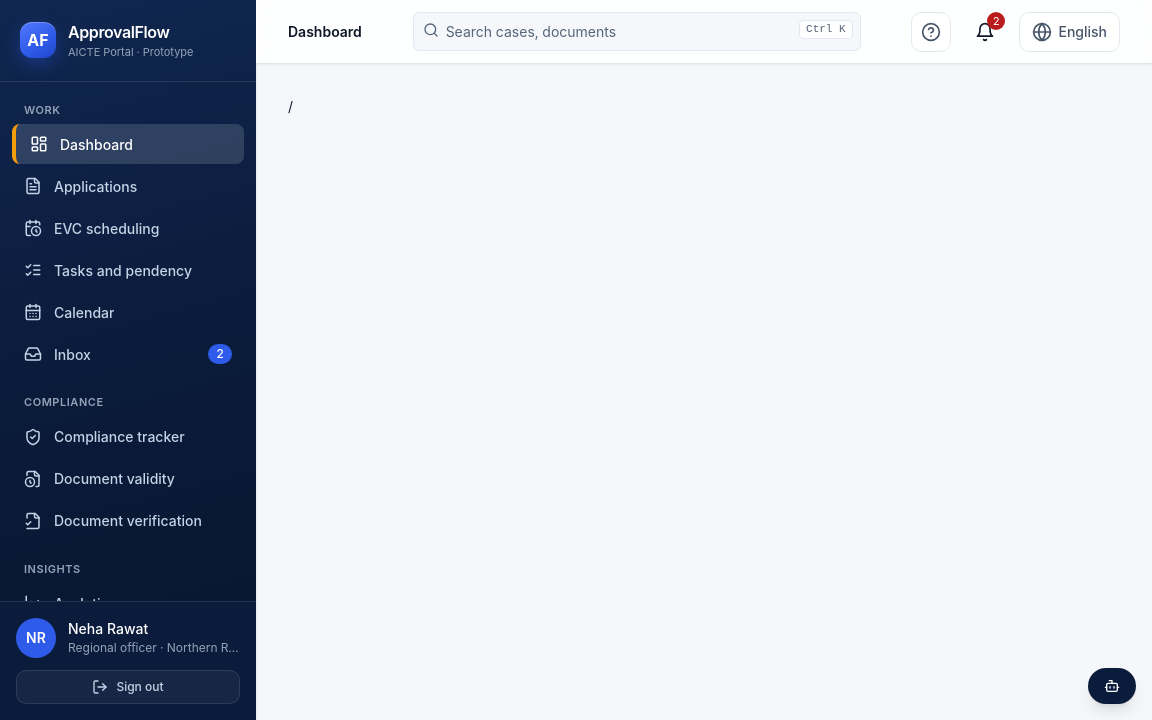
Test case: application shell › says clearly when a search finds nothing
This screenshot has width=1152, height=720.
Type "zzzz" into the dropdown. click: (637, 32)
box: [413,12,861,51]
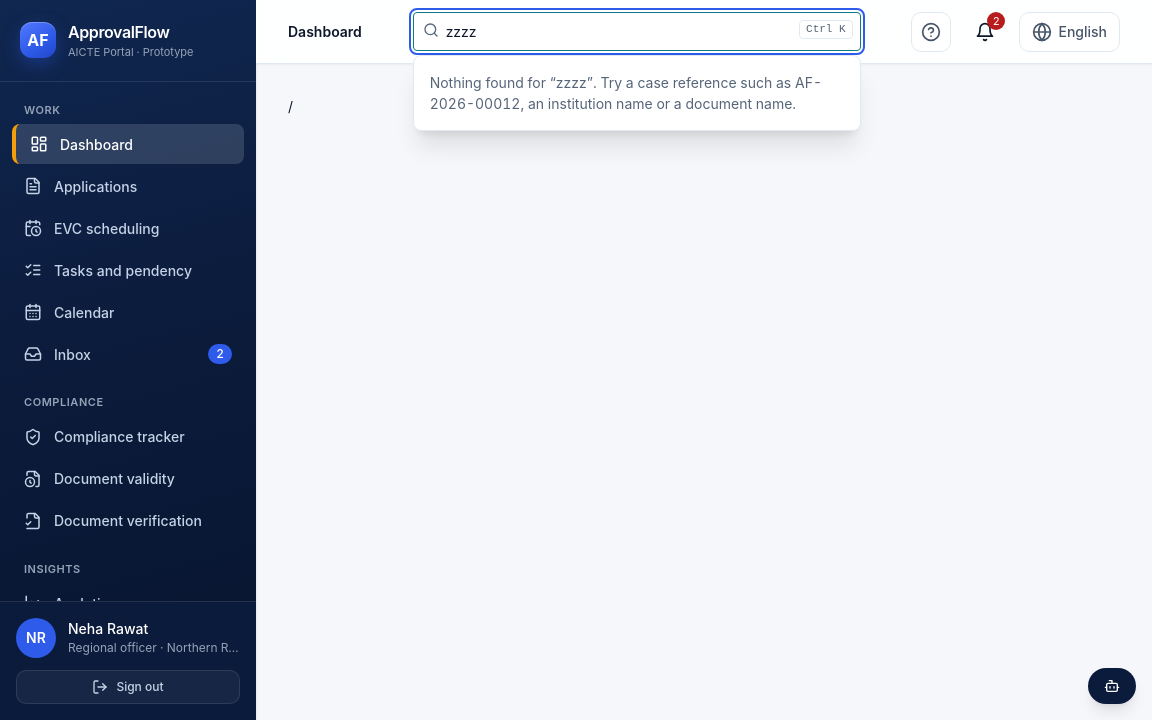
Check: the text "Nothing found for “zzzz”" is shown, box [430,74,822,112]
